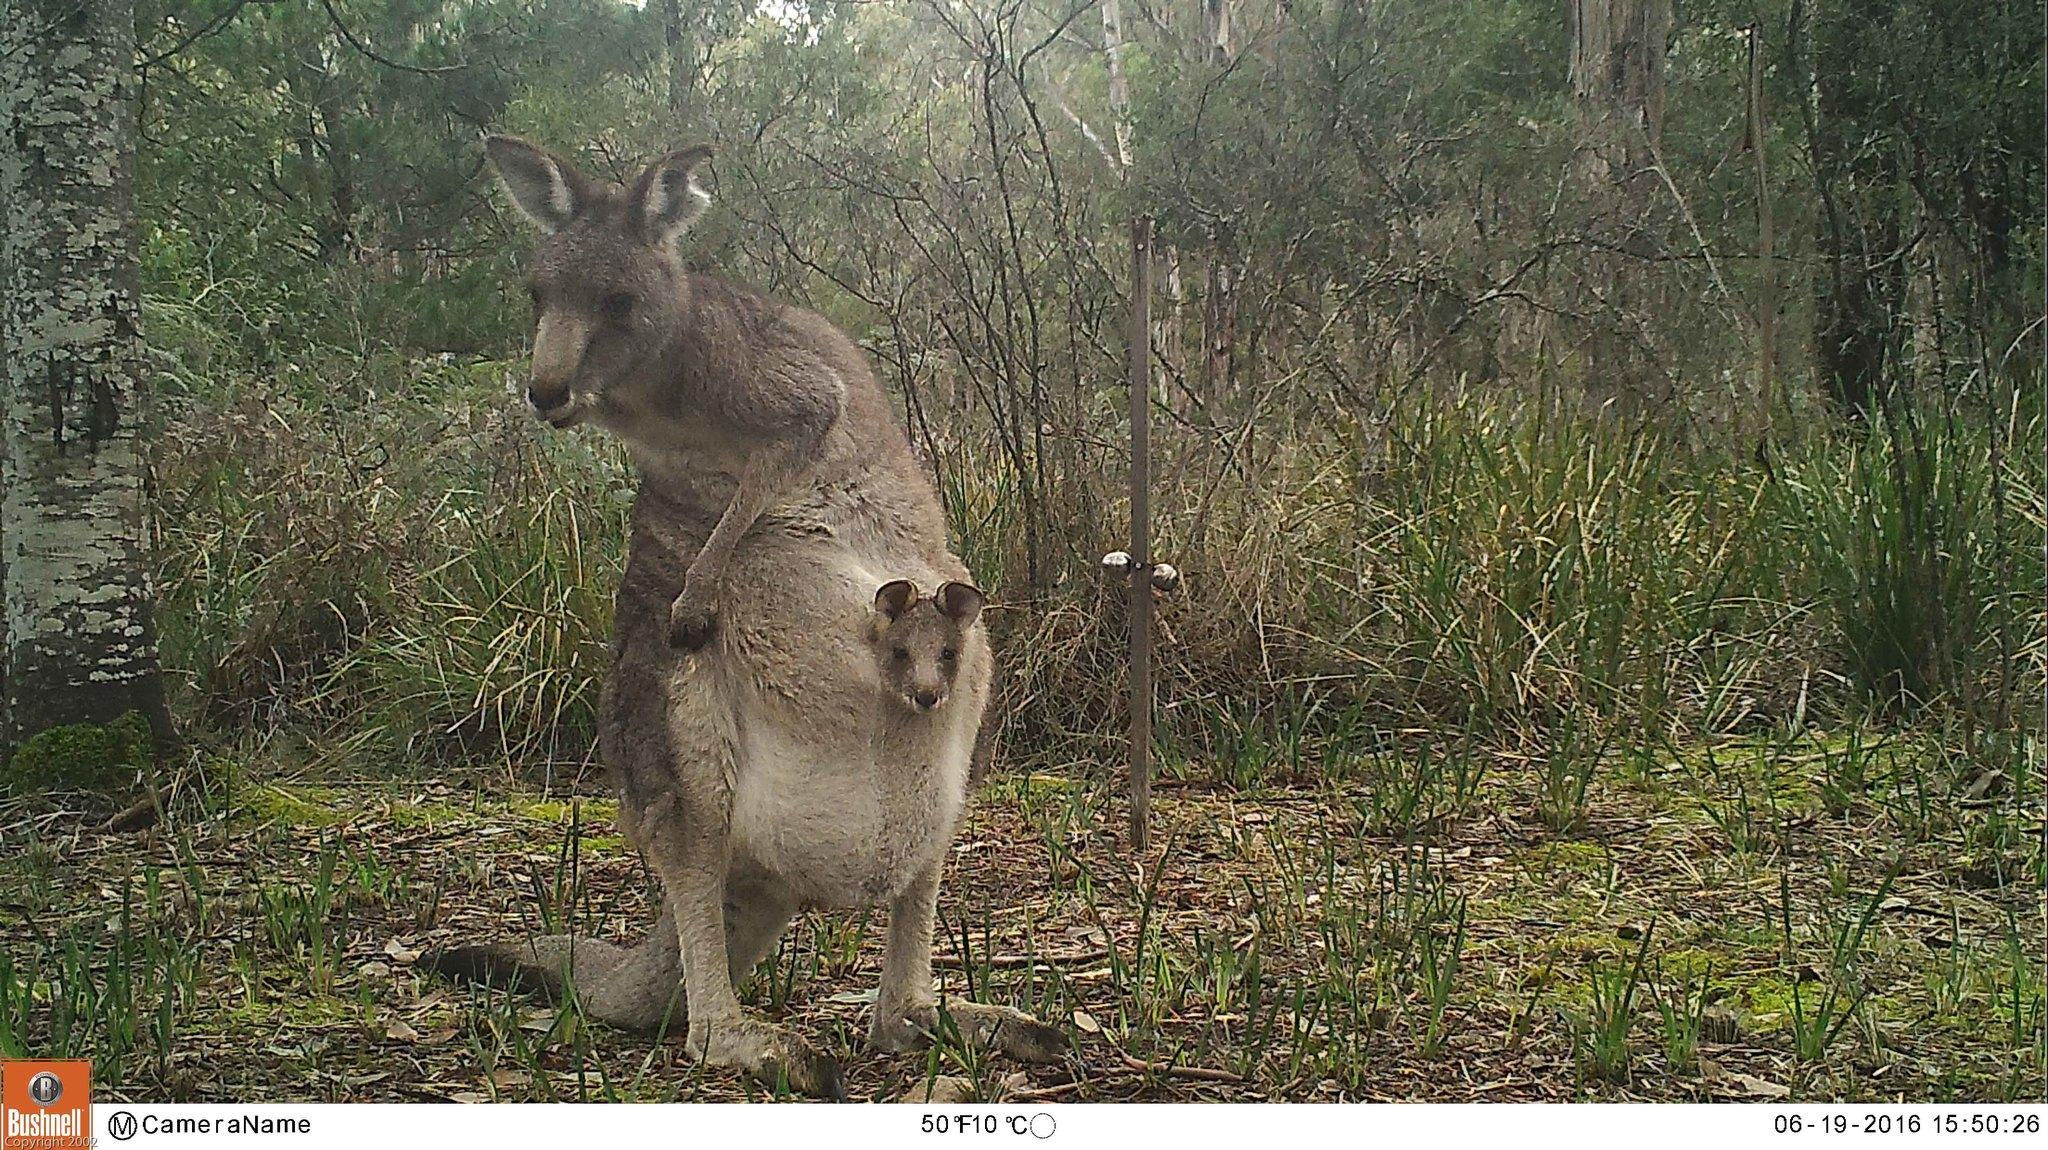Eastern grey kangaroo: (418, 132, 1080, 1092), (867, 577, 992, 723)
